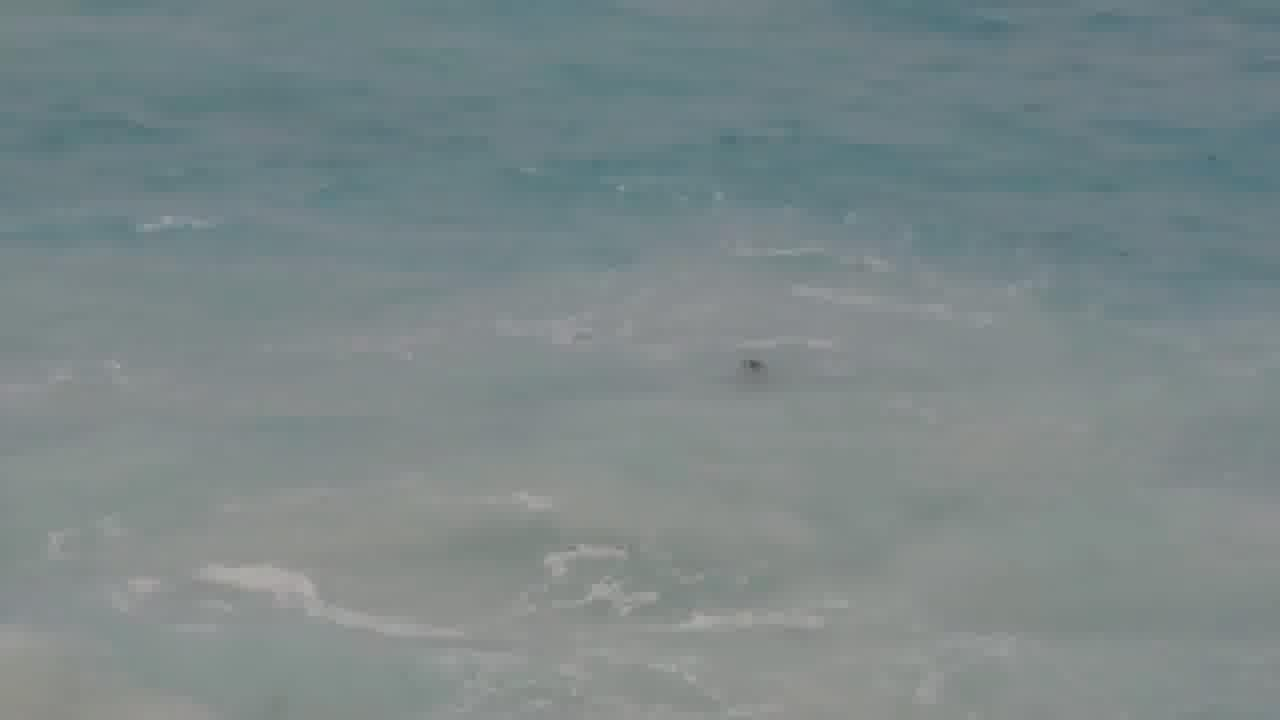swimmer: (724, 346, 767, 383)
